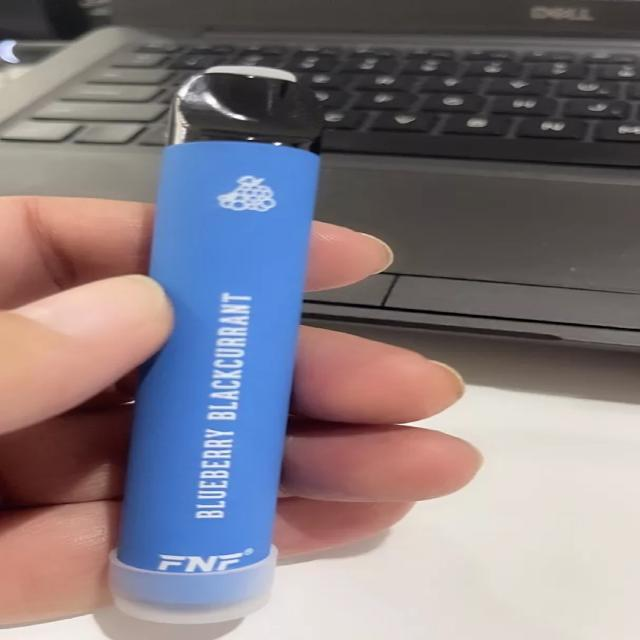Hazard: (108, 65, 327, 628)
